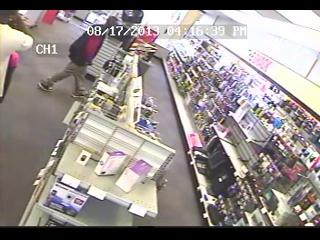Normal: (37, 16, 120, 98), (0, 22, 34, 104)
